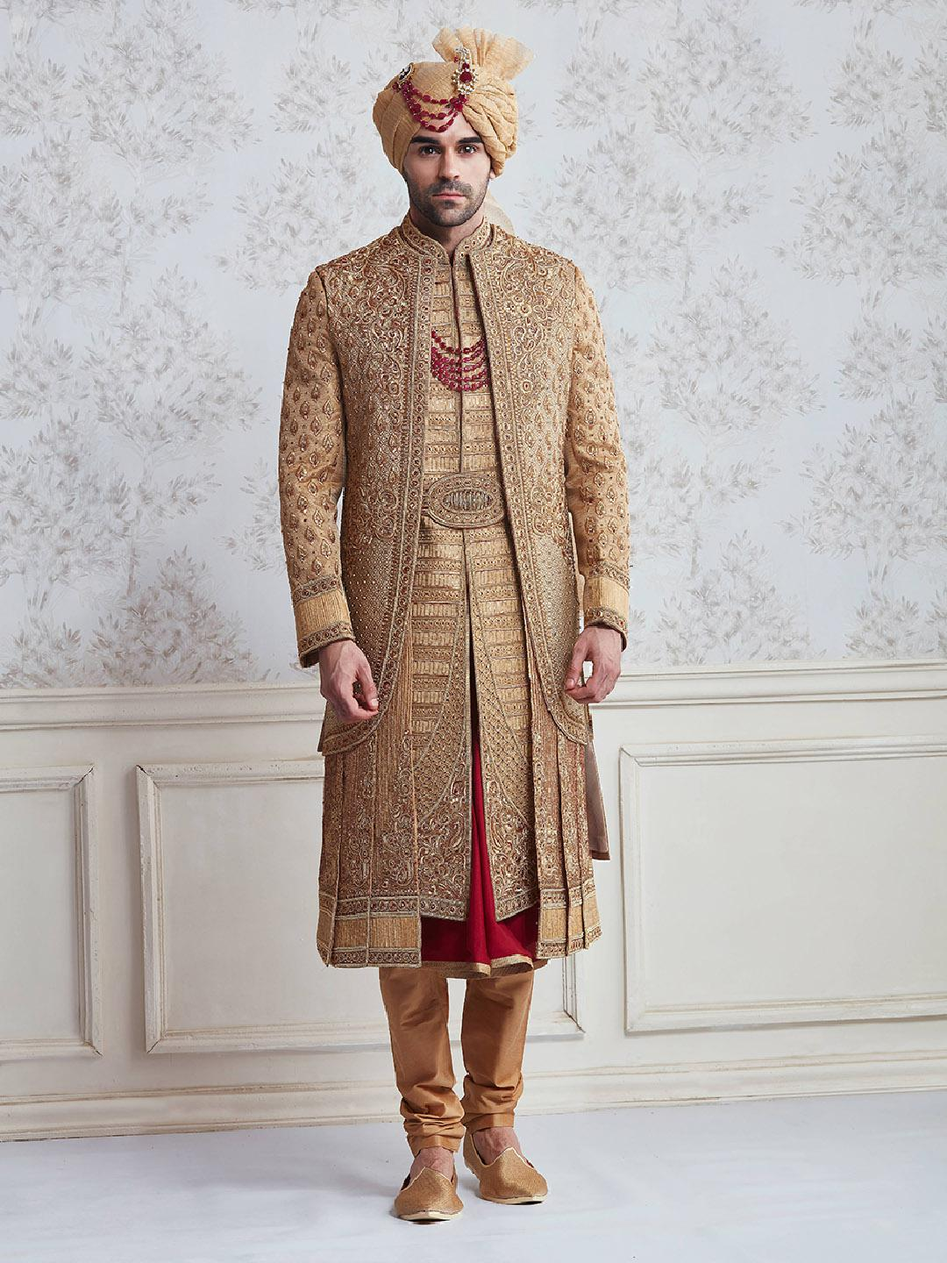Design Sherwani: (273, 216, 633, 991)
